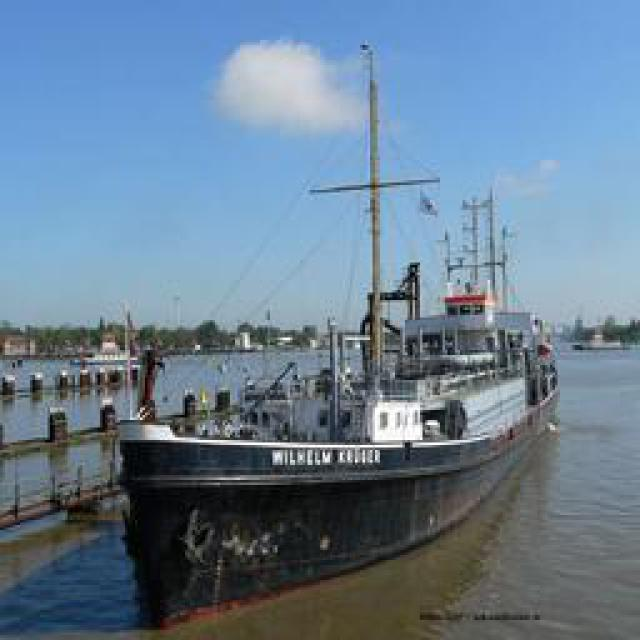Ship: (122, 40, 562, 628)
